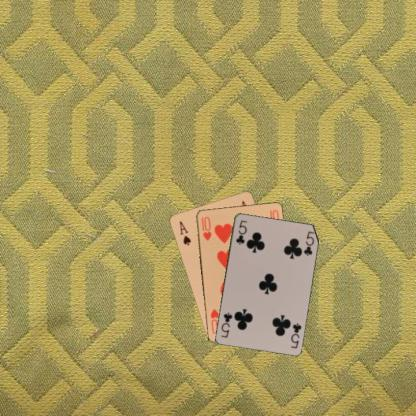10h: (198, 214, 212, 242)
5c: (288, 320, 302, 350), (233, 218, 248, 245)
As: (177, 218, 192, 247)
